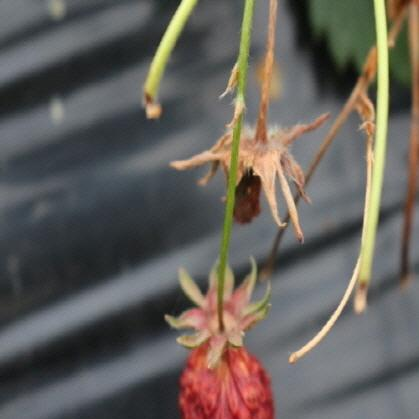Gray Mold: (169, 111, 328, 243)
